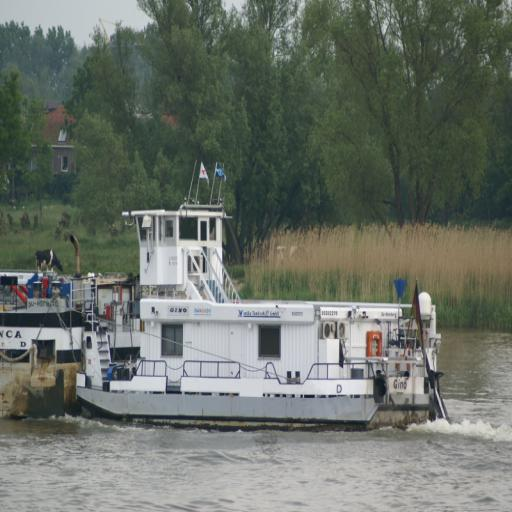tugboat: (75, 157, 453, 444)
